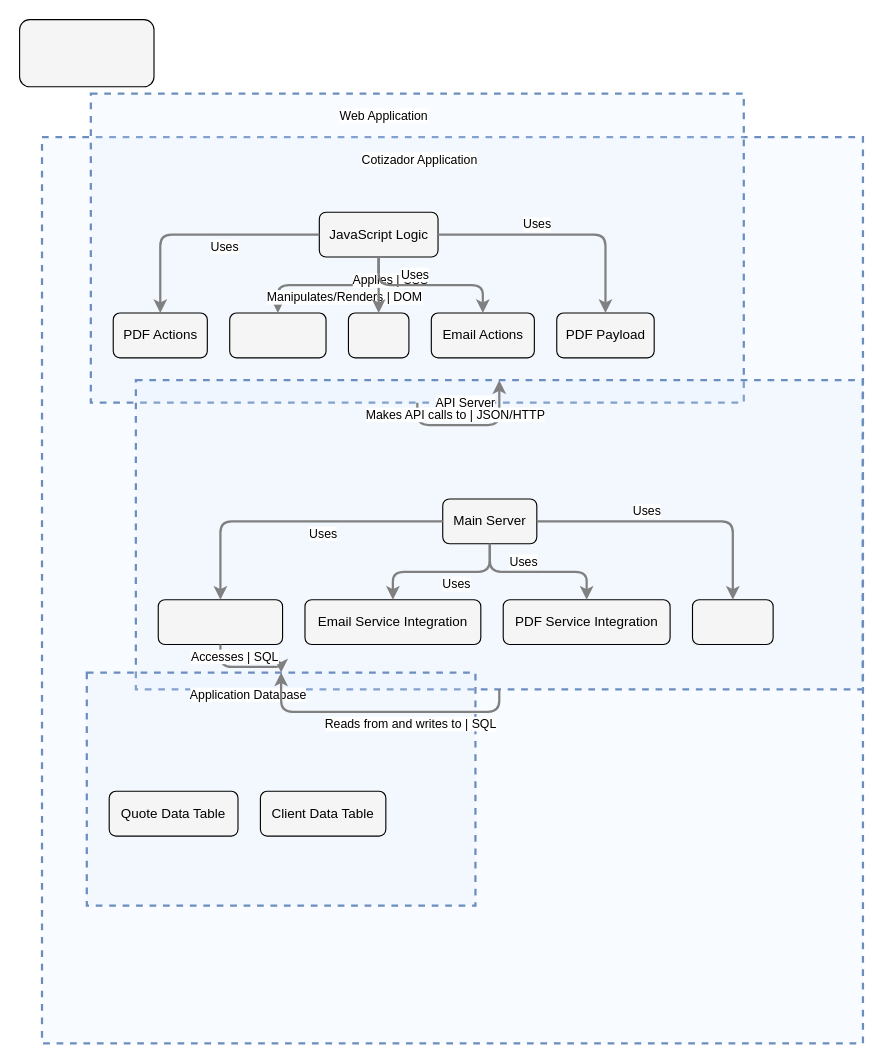
This 884x1064 diagram has some shape labels left out. Each missing label, with the box of its shape:
Database Access: (157, 599, 283, 645)
HTML Pages: (229, 312, 326, 358)
Styling: (347, 312, 409, 358)
Validators: (691, 599, 773, 645)
